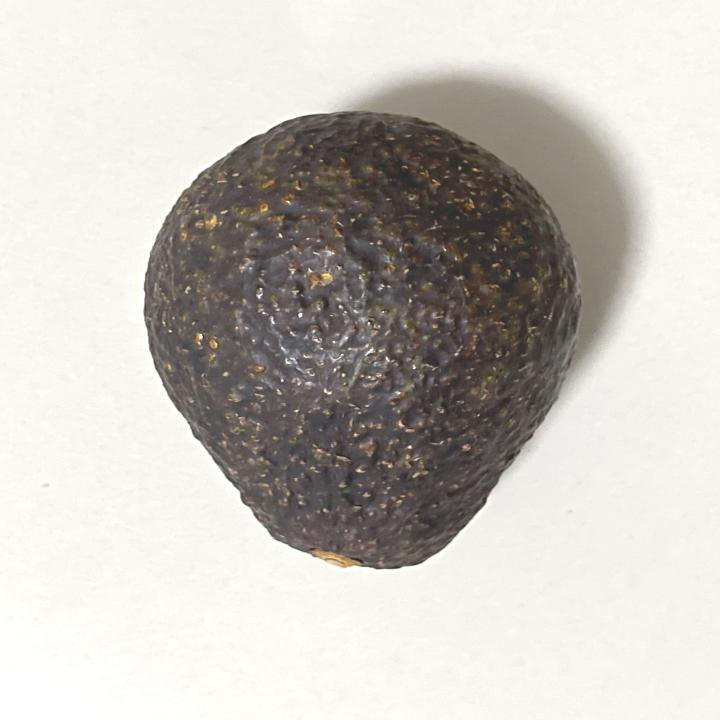Level1: (115, 100, 601, 590)
